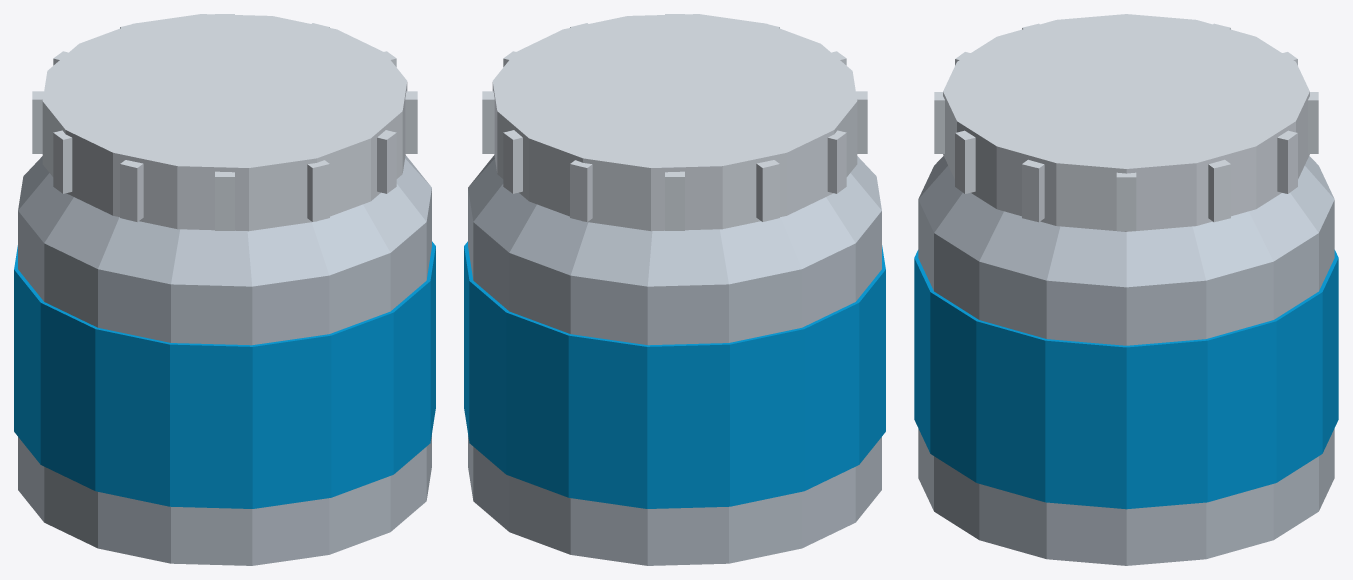
The model's file is ProteinTub_Silver.fbx.
The picture shows the model from 3 angles, left to right: view 1: azimuth 30°, elevation 25°; view 2: azimuth 150°, elevation 25°; view 3: azimuth 270°, elevation 25°; orthographic projection.
Visible parts, largest first — view 1: WaistBand, TubCap, TubBody, TubNeck, CapRidge_8, CapRidge_10, CapRidge_11, CapRidge_9, CapRidge_7, CapRidge_12, CapRidge_6; view 2: WaistBand, TubCap, TubBody, TubNeck, CapRidge_6, CapRidge_4, CapRidge_3, CapRidge_5, CapRidge_7, CapRidge_2, CapRidge_8; view 3: WaistBand, TubCap, TubBody, TubNeck, CapRidge_12, CapRidge_2, CapRidge_11, CapRidge_3, CapRidge_1, CapRidge_10, CapRidge_4.
Boxes of the visible parts, left/top/right/bottom form: WaistBand: left=14, top=241, right=435, bottom=508; TubCap: left=42, top=14, right=407, bottom=231; TubBody: left=18, top=189, right=431, bottom=565; TubNeck: left=18, top=155, right=431, bottom=286; CapRidge_8: left=120, top=160, right=143, bottom=221; CapRidge_10: left=307, top=160, right=329, bottom=221; CapRidge_11: left=377, top=130, right=396, bottom=193; CapRidge_9: left=215, top=171, right=234, bottom=230; CapRidge_7: left=53, top=130, right=72, bottom=193; CapRidge_12: left=405, top=91, right=417, bottom=153; CapRidge_6: left=32, top=91, right=43, bottom=153; WaistBand: left=464, top=241, right=885, bottom=508; TubCap: left=492, top=14, right=857, bottom=231; TubBody: left=468, top=189, right=881, bottom=565; TubNeck: left=468, top=155, right=881, bottom=286; CapRidge_6: left=756, top=160, right=779, bottom=221; CapRidge_4: left=570, top=160, right=592, bottom=221; CapRidge_3: left=503, top=130, right=522, bottom=193; CapRidge_5: left=665, top=171, right=684, bottom=230; CapRidge_7: left=827, top=130, right=846, bottom=193; CapRidge_2: left=482, top=91, right=494, bottom=153; CapRidge_8: left=856, top=91, right=867, bottom=153; WaistBand: left=914, top=250, right=1338, bottom=509; TubCap: left=943, top=14, right=1309, bottom=231; TubBody: left=918, top=200, right=1334, bottom=565; TubNeck: left=918, top=156, right=1334, bottom=287; CapRidge_12: left=1022, top=159, right=1044, bottom=222; CapRidge_2: left=1208, top=159, right=1230, bottom=222; CapRidge_11: left=955, top=130, right=975, bottom=193; CapRidge_3: left=1277, top=130, right=1297, bottom=193; CapRidge_1: left=1116, top=172, right=1136, bottom=230; CapRidge_10: left=934, top=92, right=944, bottom=153; CapRidge_4: left=1308, top=92, right=1318, bottom=153.
Bounding box in the file's own units: 0.856 × 0.856 × 0.86.
